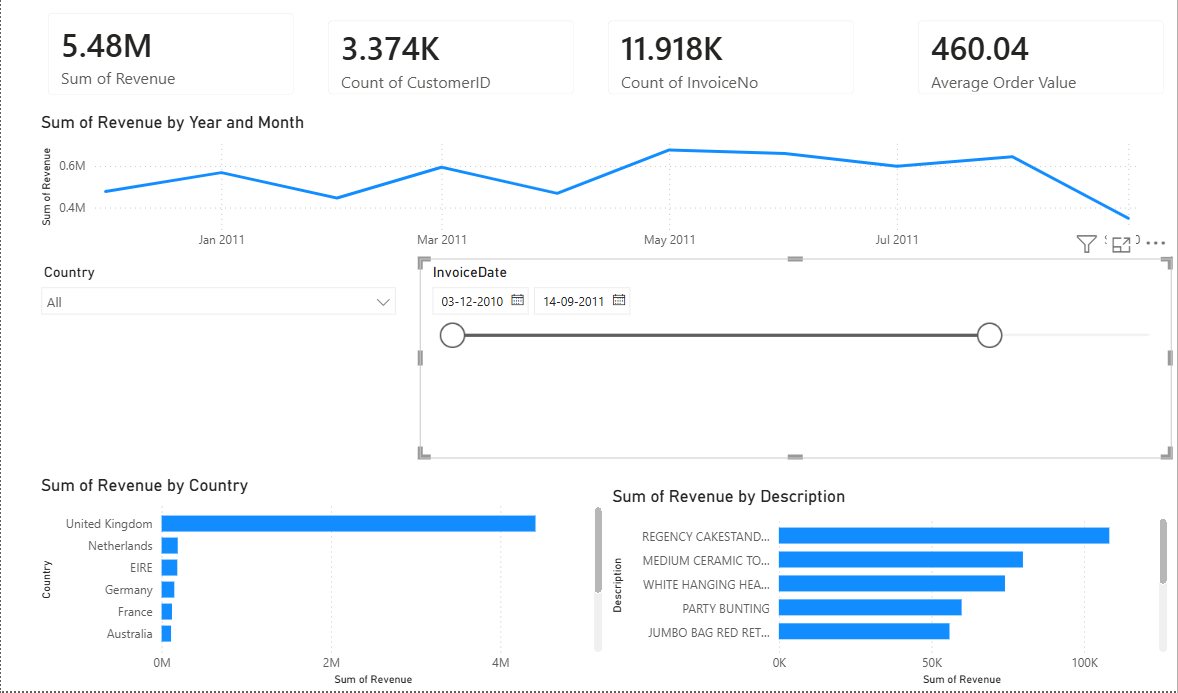

What the dashboard file says about the page in this screenshot:
{"tool":"powerbi","page":{"name":"Page 3","canvas":[1280,720],"ordinal":2},"visuals":[{"type":"cardVisual","fields":{"Data":["Sum(customerdna_clean.Revenue)"]},"box":[30,25,280,116.2],"z":0},{"type":"cardVisual","fields":{"Data":["Count(customerdna_clean.CustomerID)"]},"box":[310,32.5,280,108.8],"z":1},{"type":"cardVisual","fields":{"Data":["Count(customerdna_clean.InvoiceNo)"]},"box":[590,32.5,280,108.8],"z":2},{"type":"cardVisual","fields":{"Data":["customerdna_clean.Average Order Value"]},"box":[900,32.5,280,108.8],"z":3},{"type":"lineChart","fields":{"Y":["Sum(customerdna_clean.Revenue)"],"Category":["customerdna_clean.InvoiceDate.Variation.Date Hierarchy.Year","customerdna_clean.InvoiceDate.Variation.Date Hierarchy.Month"]},"box":[35,141.2,1122.5,146.2],"z":4},{"type":"clusteredBarChart","fields":{"Category":["customerdna_clean.Country"],"Y":["Sum(customerdna_clean.Revenue)"]},"box":[0,503.8,606.2,216.2],"z":5},{"type":"clusteredBarChart","fields":{"Category":["customerdna_clean.Description"],"Y":["Sum(customerdna_clean.Revenue)"]},"box":[606.2,515,565,205],"z":6},{"type":"slicer","fields":{"Values":["customerdna_clean.Country"]},"box":[30,287.5,375,200],"z":7},{"type":"slicer","fields":{"Values":["customerdna_clean.InvoiceDate"]},"box":[418.8,287.5,752.5,200],"z":8}]}

Visuals, with their boxes on the page's 1280x720 design canvas (x1, y1, x2, y2). These are canvas units, not pixel positions in the 1178x693 screenshot, which may show the page scaled, cropped or inside an application window:
cardVisual - Sum(customerdna_clean.Revenue): bbox=[30, 25, 310, 141]
cardVisual - Count(customerdna_clean.CustomerID): bbox=[310, 32, 590, 141]
cardVisual - Count(customerdna_clean.InvoiceNo): bbox=[590, 32, 870, 141]
cardVisual - customerdna_clean.Average Order Value: bbox=[900, 32, 1180, 141]
lineChart - Sum(customerdna_clean.Revenue) x customerdna_clean.InvoiceDate.Variation.Date Hierarchy.Year: bbox=[35, 141, 1158, 287]
clusteredBarChart - customerdna_clean.Country x Sum(customerdna_clean.Revenue): bbox=[0, 504, 606, 720]
clusteredBarChart - customerdna_clean.Description x Sum(customerdna_clean.Revenue): bbox=[606, 515, 1171, 720]
slicer - customerdna_clean.Country: bbox=[30, 288, 405, 488]
slicer - customerdna_clean.InvoiceDate: bbox=[419, 288, 1171, 488]
